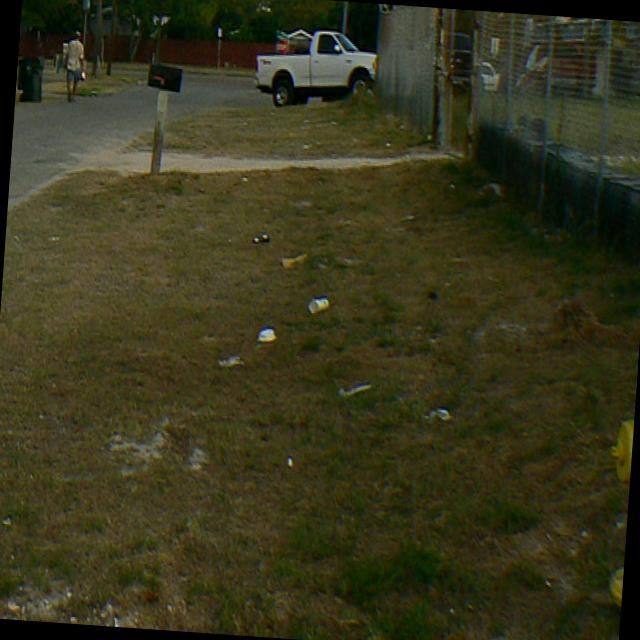Vehicle: (250, 23, 379, 112), (521, 40, 598, 98), (451, 32, 474, 80), (479, 62, 503, 92)
